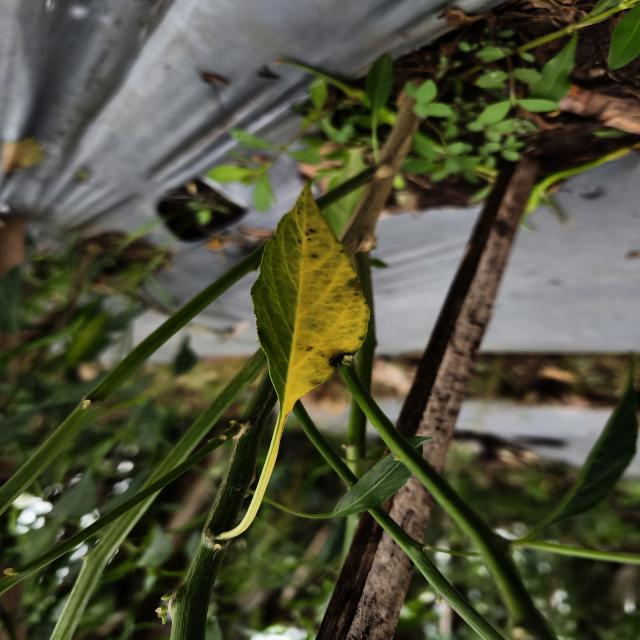Virus Kuning: (250, 180, 372, 417)
